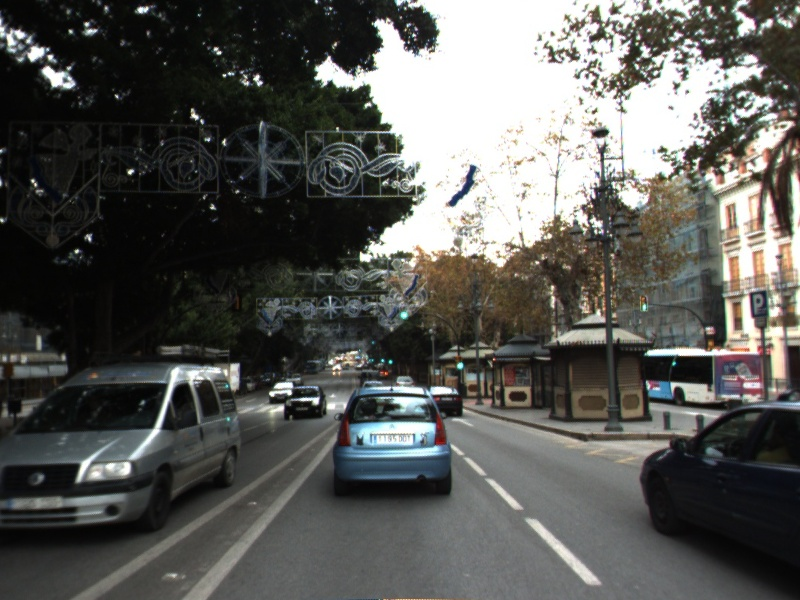STRAIGHT: (449, 415, 475, 428)
